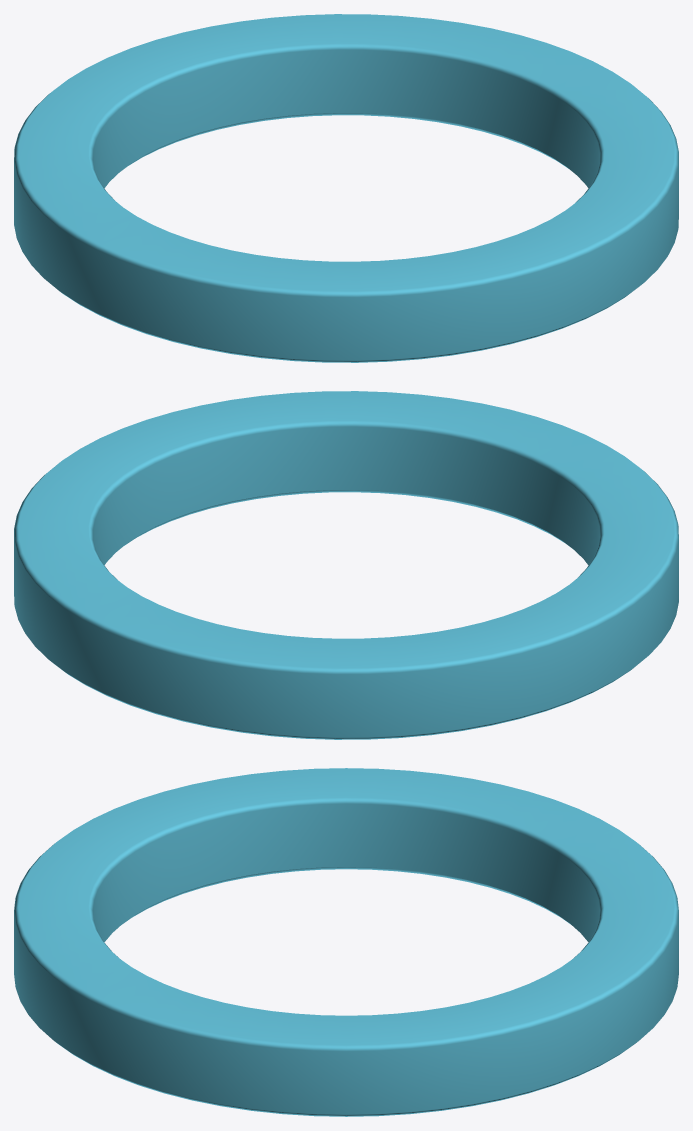
3 renders of one model, top to bottom at view 1: azimuth 30°, elevation 25°; view 2: azimuth 150°, elevation 25°; view 3: azimuth 270°, elevation 25°, orthographic.
Visible parts, largest first — view 1: seal_body; view 2: seal_body; view 3: seal_body.
Boxes of the visible parts, x1=… form: seal_body: x1=14, y1=14, x2=678, y2=362; seal_body: x1=14, y1=391, x2=678, y2=739; seal_body: x1=14, y1=768, x2=678, y2=1116.
Bounding box in the file's own units: 0.0667 × 0.00793 × 0.0667.
